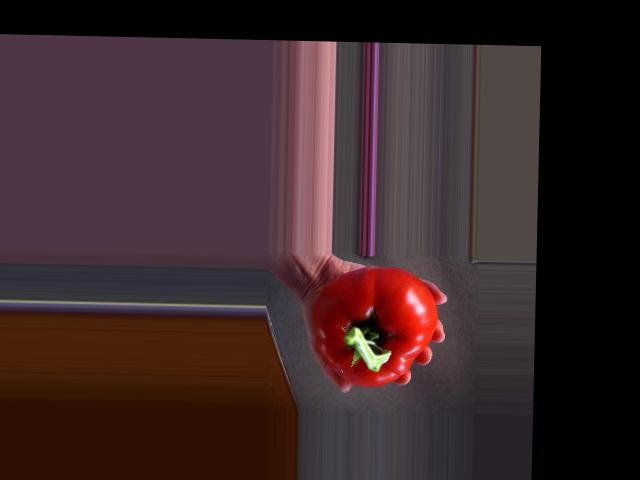tomato: (311, 265, 438, 388)
